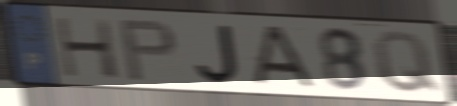8: (317, 25, 368, 93)
A: (247, 24, 321, 91)
H: (51, 14, 123, 81)
J: (193, 22, 242, 86)
P: (116, 18, 180, 83)
Q: (370, 29, 443, 96)
